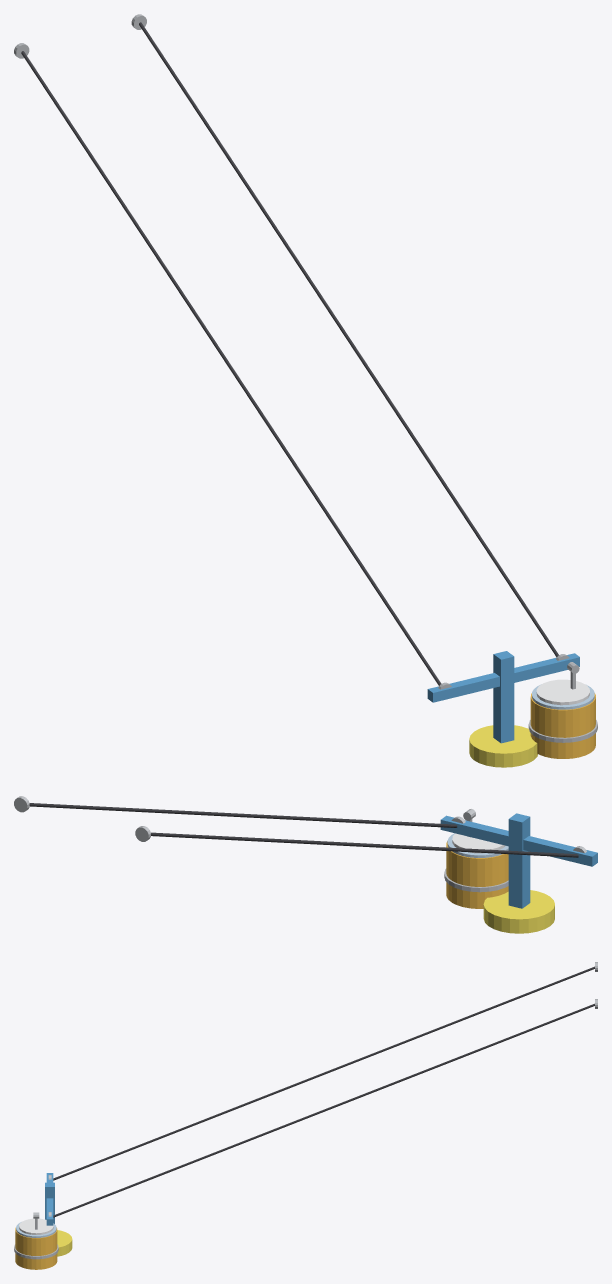
File: state-fair-skyride-start-beam.glb
The picture shows the model from 3 angles, top to bottom: view 1: azimuth 30°, elevation 25°; view 2: azimuth 150°, elevation 25°; view 3: azimuth 270°, elevation 25°; orthographic projection. The views are drawn at different scales.
Visible parts, largest first — view 1: SRS_Cable0, SRS_Cable1, SRS_CabinBody, SRS_Base, SRS_LoadBeam, SRS_LoadPole, SRS_CabinRoof; view 2: SRS_CabinBody, SRS_Base, SRS_LoadBeam, SRS_LoadPole, SRS_Cable0, SRS_Cable1, SRS_CabinRoof, SRS_CabinBumper, SRS_CabinGlass, SRS_TipSheave1, SRS_TipSheave0; view 3: SRS_Cable0, SRS_Cable1, SRS_CabinBody, SRS_CabinRoof.
Part boxes in pixels (<box>): SRS_Cable0: <box>21,51,441,685</box>; SRS_Cable1: <box>139,22,558,657</box>; SRS_CabinBody: <box>530,693,595,758</box>; SRS_Base: <box>469,725,537,767</box>; SRS_LoadBeam: <box>427,653,579,702</box>; SRS_LoadPole: <box>493,651,514,743</box>; SRS_CabinRoof: <box>536,679,589,705</box>; SRS_CabinBody: <box>446,841,508,908</box>; SRS_Base: <box>483,890,554,933</box>; SRS_LoadBeam: <box>440,815,597,866</box>; SRS_LoadPole: <box>508,813,530,908</box>; SRS_Cable0: <box>151,832,578,857</box>; SRS_Cable1: <box>29,803,457,827</box>; SRS_CabinRoof: <box>452,833,505,853</box>; SRS_CabinBumper: <box>444,868,508,892</box>; SRS_CabinGlass: <box>447,833,508,857</box>; SRS_TipSheave1: <box>14,796,29,812</box>; SRS_TipSheave0: <box>135,826,150,841</box>; SRS_Cable0: <box>53,966,594,1180</box>; SRS_Cable1: <box>53,1003,594,1217</box>; SRS_CabinBody: <box>15,1227,57,1269</box>; SRS_CabinRoof: <box>19,1218,53,1234</box>.
Size of the model in its own units: 4.57 by 11.85 by 23.51.
